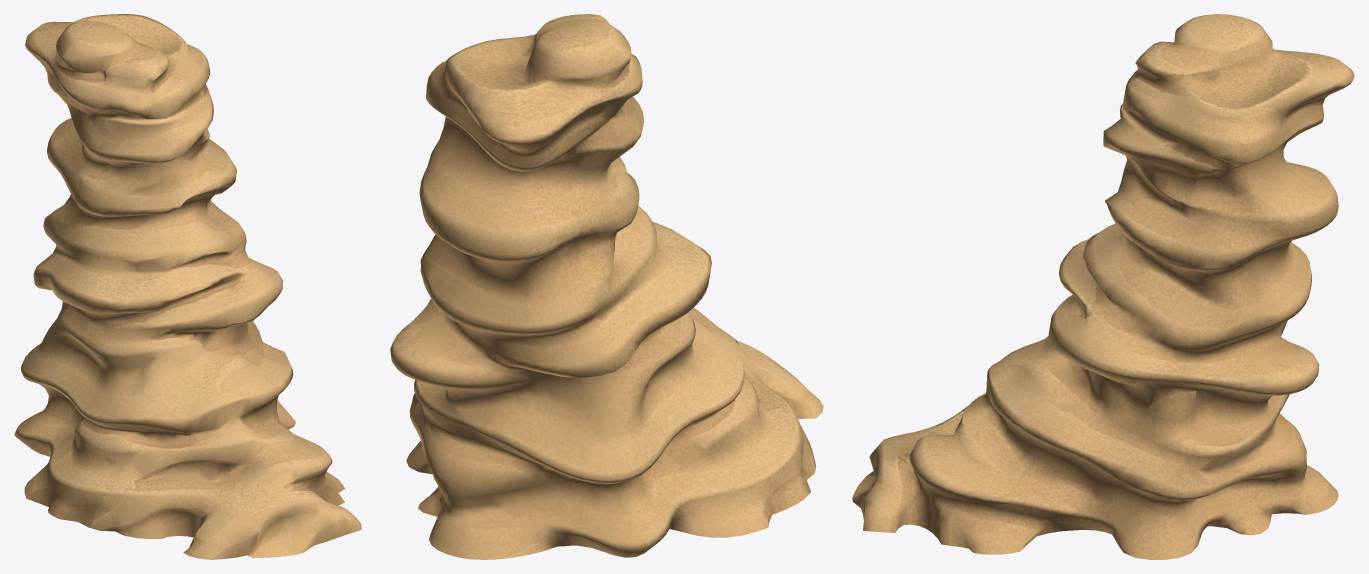
File: tripo_convert_6b34ce41-a116-4097-b7b3-5fcd75e74bf8.fbx
3 renders of one model, left to right at view 1: azimuth 30°, elevation 25°; view 2: azimuth 150°, elevation 25°; view 3: azimuth 270°, elevation 25°, orthographic. The views are drawn at different scales.
Parts seen in each view (by area): view 1: tripo_node_6b34ce41; view 2: tripo_node_6b34ce41; view 3: tripo_node_6b34ce41.
Part boxes in pixels (bbox=[...]): tripo_node_6b34ce41: bbox=[14, 14, 361, 559]; tripo_node_6b34ce41: bbox=[390, 14, 823, 559]; tripo_node_6b34ce41: bbox=[852, 14, 1354, 559].
Bounding box in the file's own units: 0.7095 × 0.9995 × 0.9995.
Materials: 1 (1 with a texture image).
